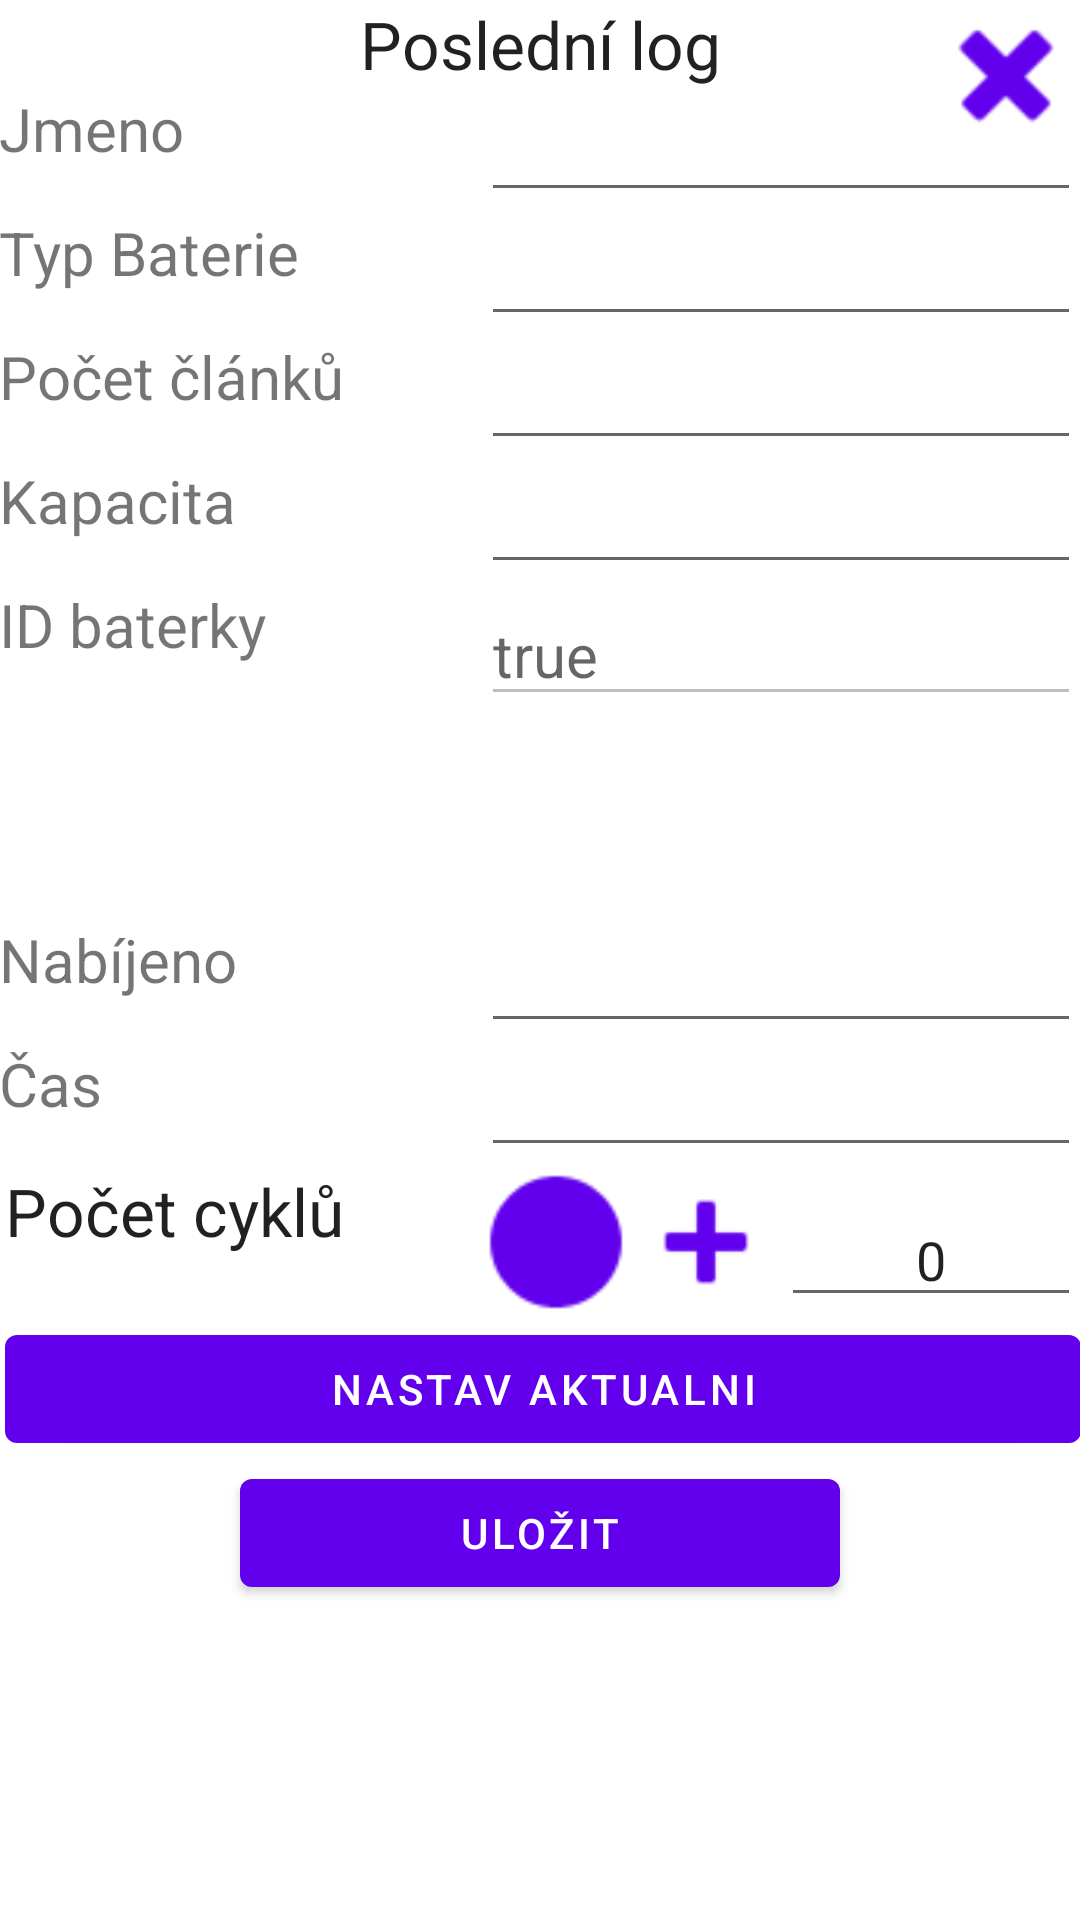

Point at icon controls on the screen. Image size 1080w x 1920h, points as (x,y).
add: (706,1242)
delete: (1006,76)
